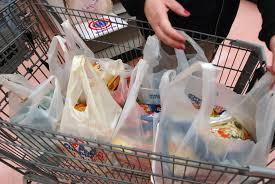Plastic bag: (152, 57, 274, 176), (62, 62, 149, 153), (2, 69, 59, 129), (48, 24, 95, 59)
